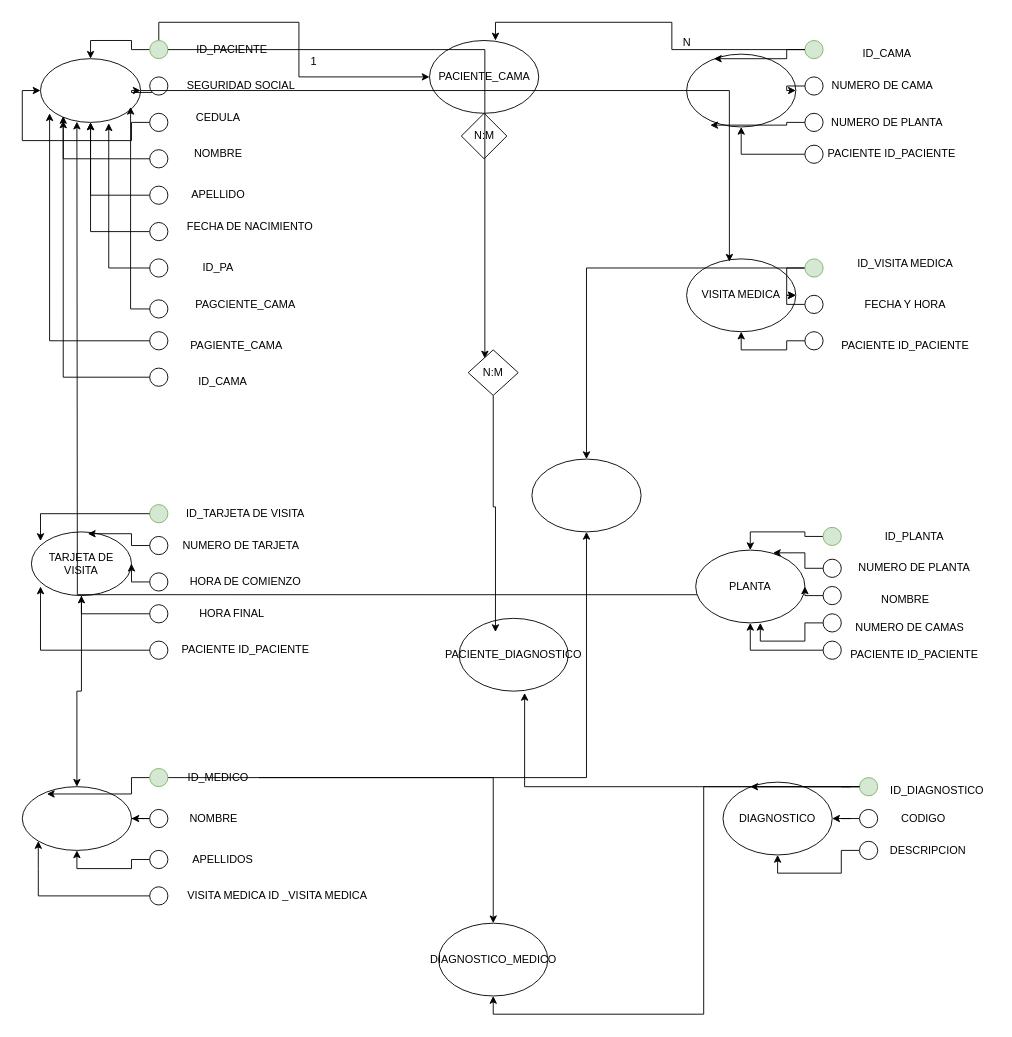
Image size: 1012x1037. Some labels were removed from this diagram. The centre of each missing label's shape, as x and y in pixels:
"CAMA" belongs at (741,90).
"MEDICO" belongs at (76,818).
"paciente" belongs at (90,90).
"VISITA MEDICA_MEDICO" belongs at (586,495).
